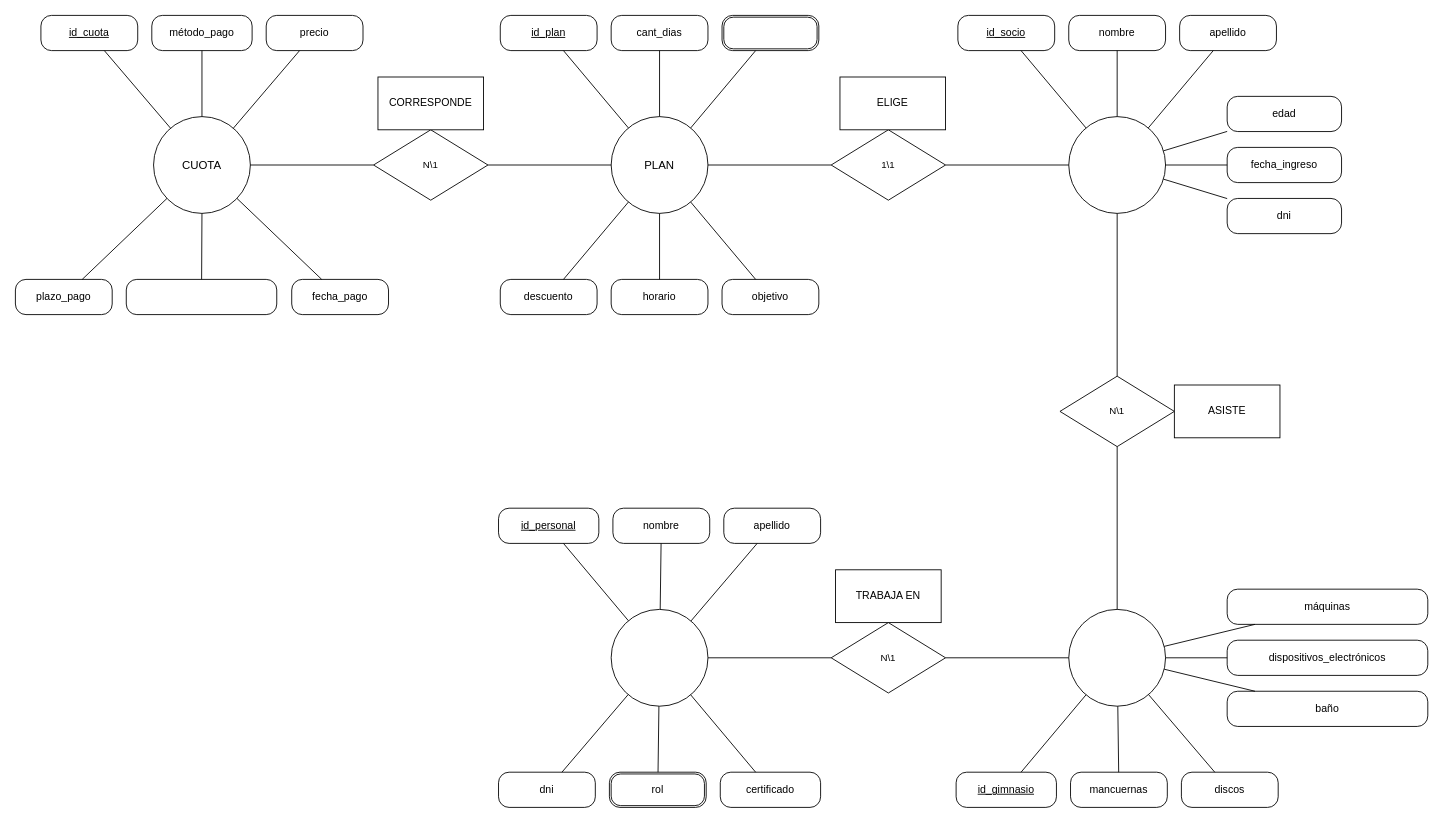
Some shapes in this 1443 by 823 pixel diagram are drawn without their labels. Each missing label, with the centre of its shape:
"GIMNASIO" belongs at [1117,657].
"PERSONAL" belongs at [659,657].
"porcentaje_añadido" belongs at [201,297].
"rutina" belongs at [770,33].
"SOCIO" belongs at [1117,164].
